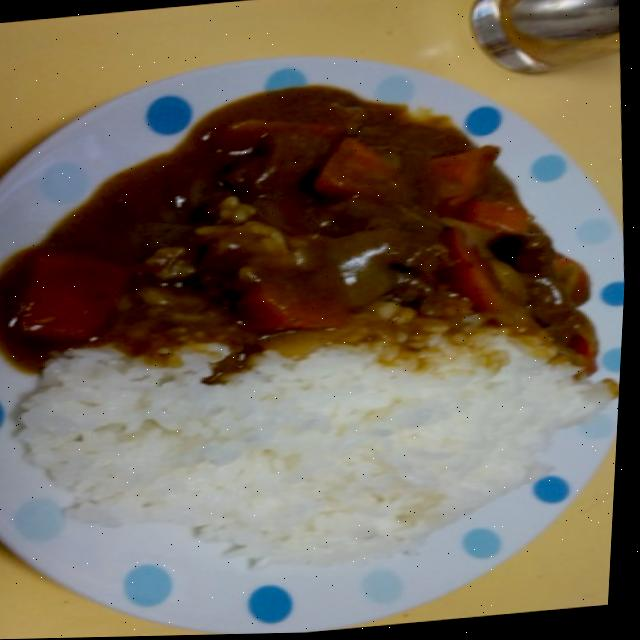牛肉菜式: (0, 32, 638, 640)
